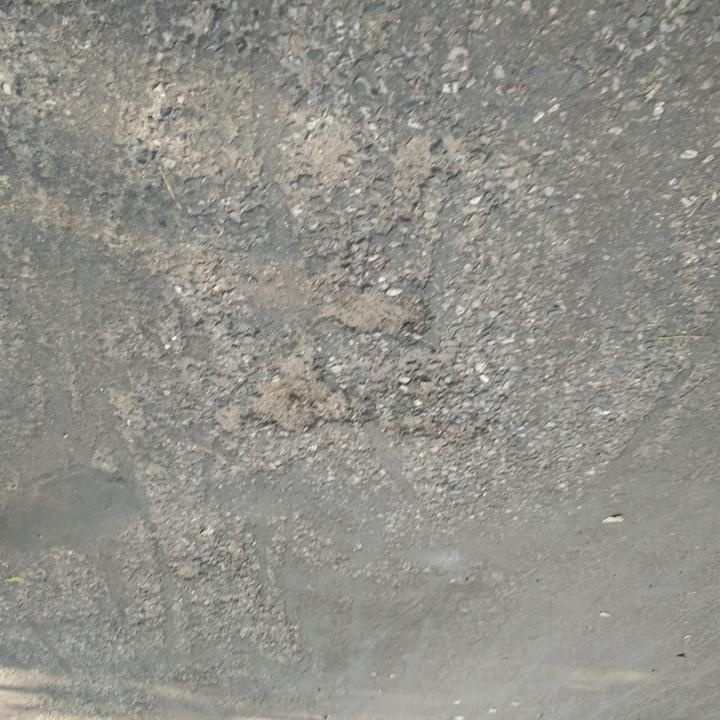pothole: (247, 345, 351, 435), (328, 289, 426, 343)
